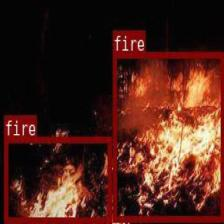fire: (112, 51, 224, 220), (3, 136, 111, 222)
